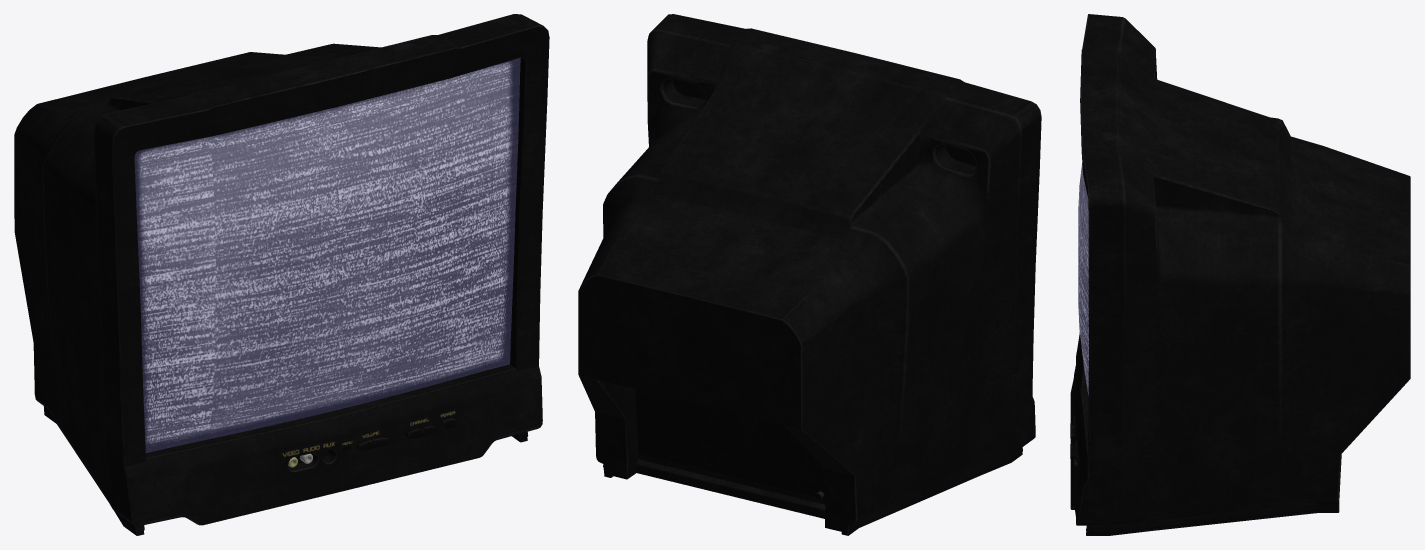
Rendered from cathode_ray_tv.glb.
The picture shows the model from 3 angles, left to right: view 1: azimuth 30°, elevation 25°; view 2: azimuth 150°, elevation 25°; view 3: azimuth 270°, elevation 25°; orthographic projection. The views are drawn at different scales.
Visible parts, largest first — view 1: pPlane4, pCylinder2; view 2: pCylinder2; view 3: pCylinder2, pPlane4.
Part boxes in pixels (bbox=[...]): pPlane4: bbox=[134, 57, 520, 452]; pCylinder2: bbox=[14, 14, 549, 535]; pCylinder2: bbox=[578, 14, 1041, 535]; pCylinder2: bbox=[1070, 14, 1410, 535]; pPlane4: bbox=[1078, 163, 1088, 395].
Size of the model in its own units: 2 by 1.8 by 1.57.
2 materials, 2 textured.
